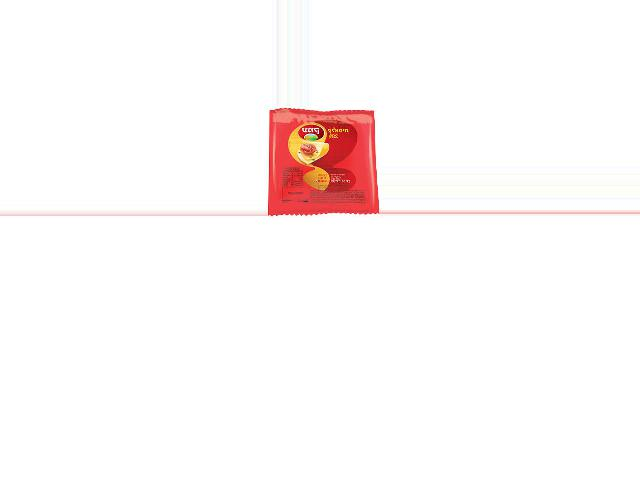cheese: (267, 109, 375, 216)
